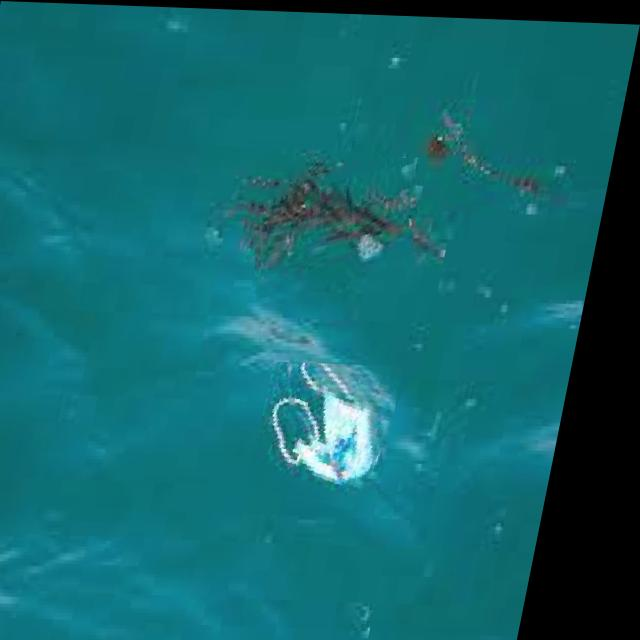mask: (262, 358, 417, 502)
wood: (239, 148, 434, 295)
